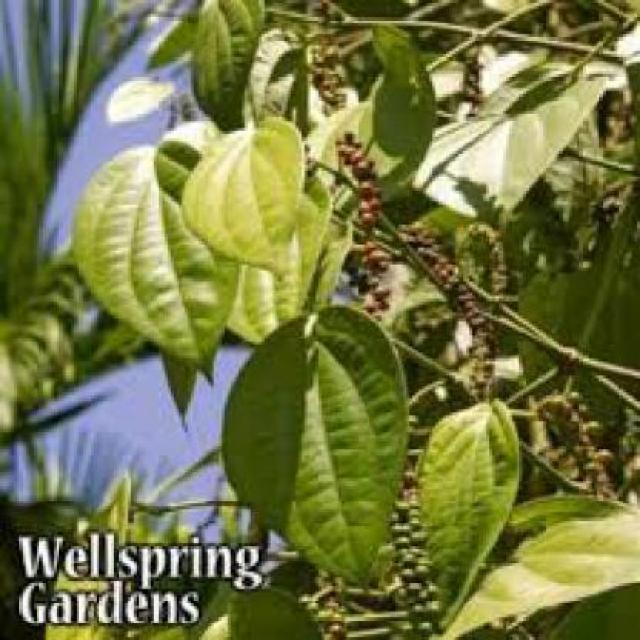RIPE: (332, 131, 385, 315)
UNRIPE: (401, 222, 501, 393), (387, 489, 436, 637), (540, 390, 609, 495), (308, 40, 342, 106)
